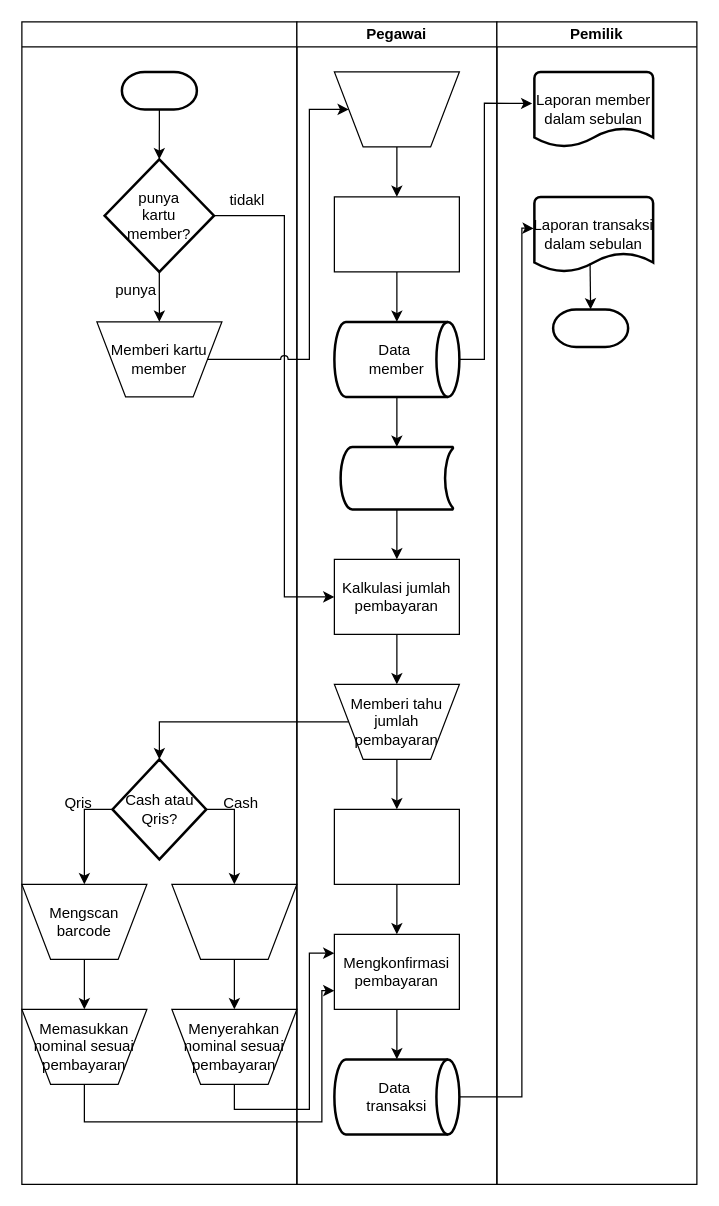
Some shapes in this 719 by 1206 pixel diagram are drawn without their labels. The box of each missing label's shape, as (x1, y1, x2, y2) in pixels:
Kustomer: (21, 21, 297, 1184)
Menginput transaksi pada aplikasi kasir: (333, 808, 459, 884)
Menyiapkan uang tunai: (171, 883, 297, 959)
Mulai: (120, 70, 198, 110)
Pegawai memverifikasi kartu member: (333, 196, 459, 272)
Selesai: (551, 308, 629, 348)
Tampilan riwayat kunjungan: (339, 445, 454, 510)
Validasi kartu member: (333, 71, 459, 147)
